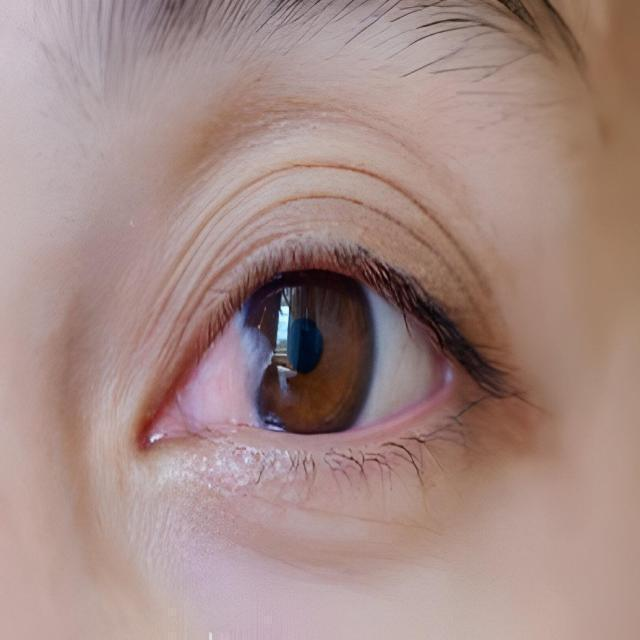Pterygium: (154, 298, 284, 428)
